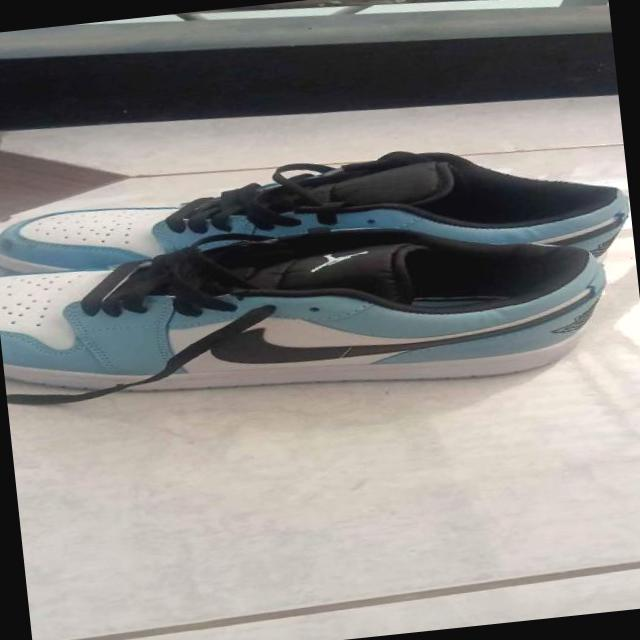nike_fake_jordan: (0, 206, 639, 415), (0, 129, 625, 275)
